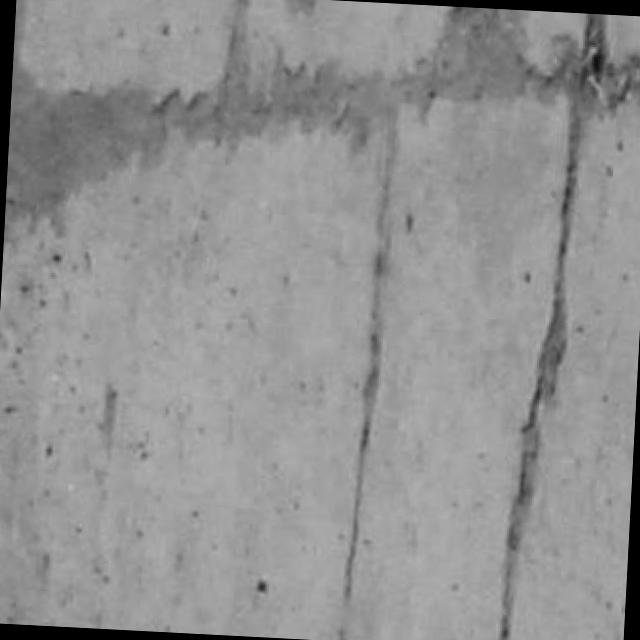crack: (500, 14, 608, 639), (338, 112, 397, 639)
